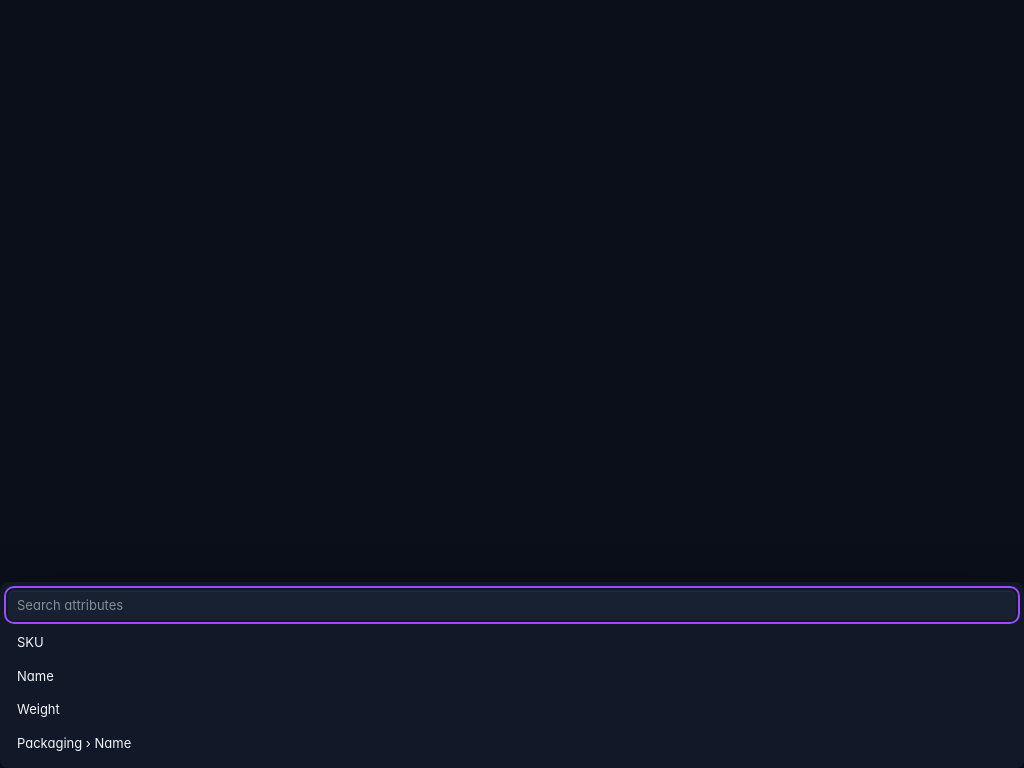
Test case: FieldPicker › filters by label
This screenshot has width=1024, height=768.
(page scrolled)
Step 1. Type "pack" into the field with test id "field-picker-search" → (512, 605), box [8,590,1016,620]
(page scrolled)
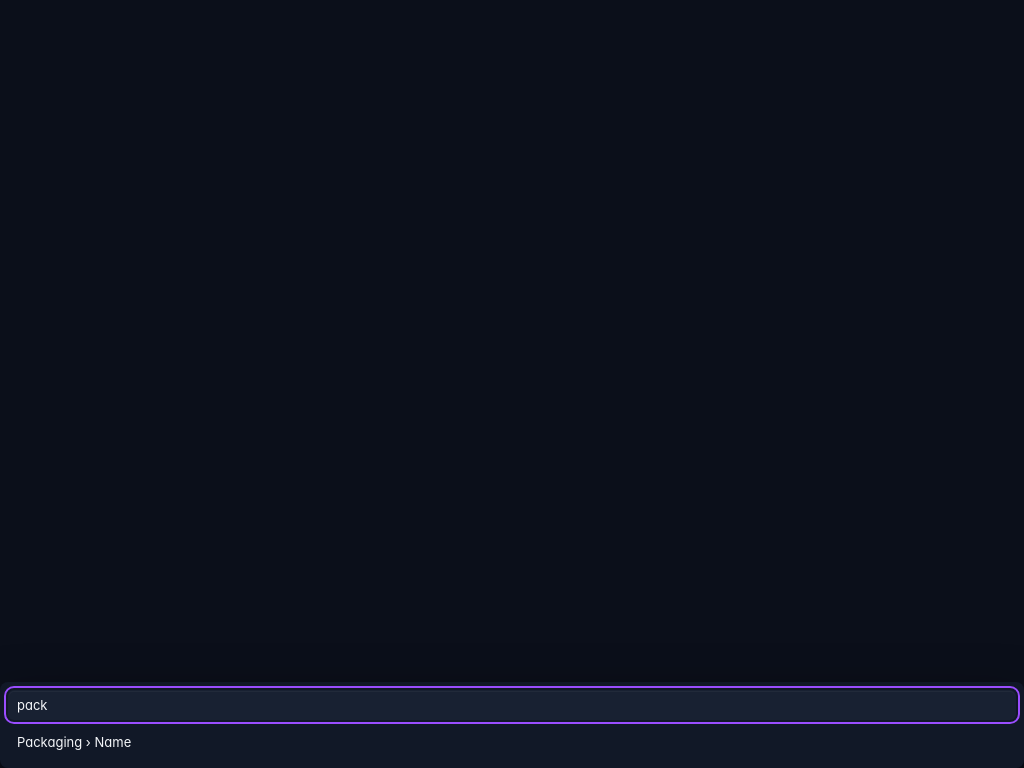
Check: the option with test id "field-picker-packaging>name" is shown, box [8,726,1016,760]
Check: the option with test id "field-picker-sku" is gone
